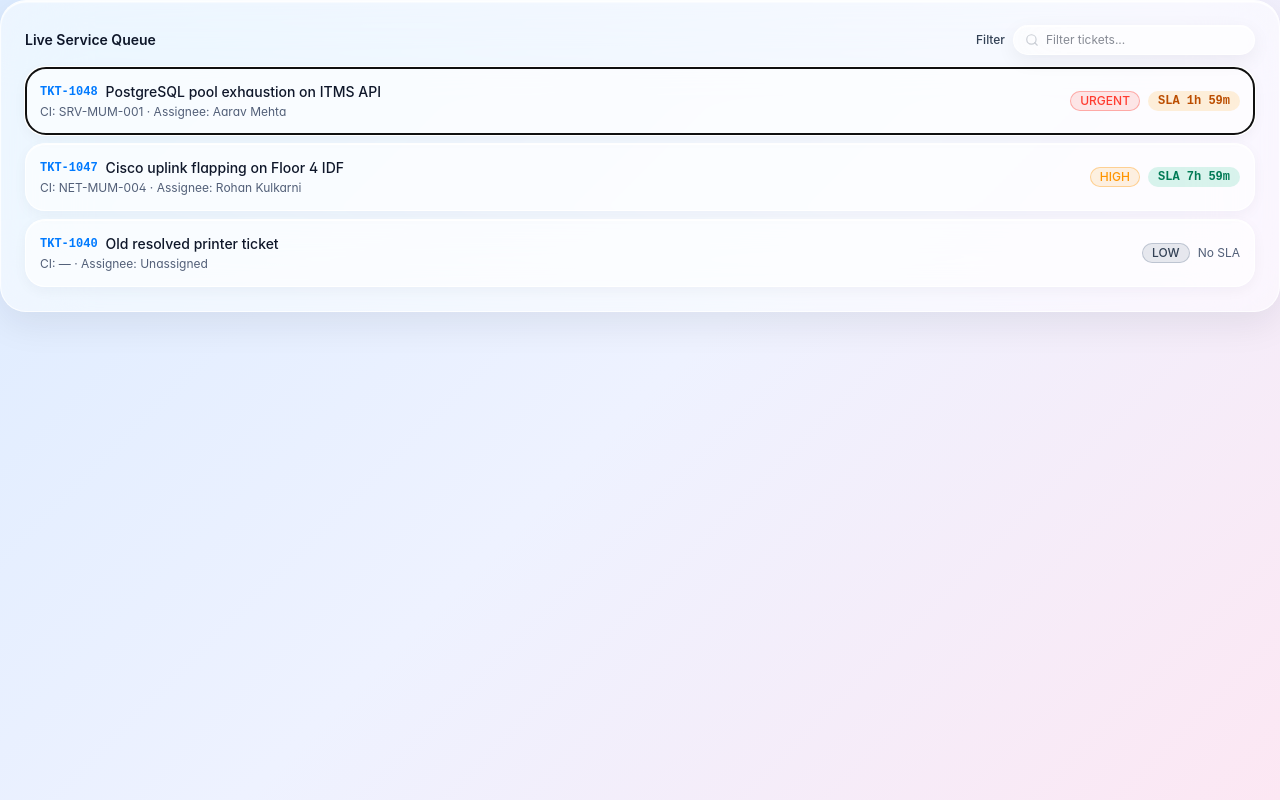
ServiceQueue FE-03 inspect drawer focus management (#147) › drawer is modal with initial focus, traps Tab, and returns focus to the invoking row
Check: the text "TKT-1048" is shown, box [40,84,98,100]
Click the button "TKT-1048".
click(69, 92)  # box [25,67,1255,135]
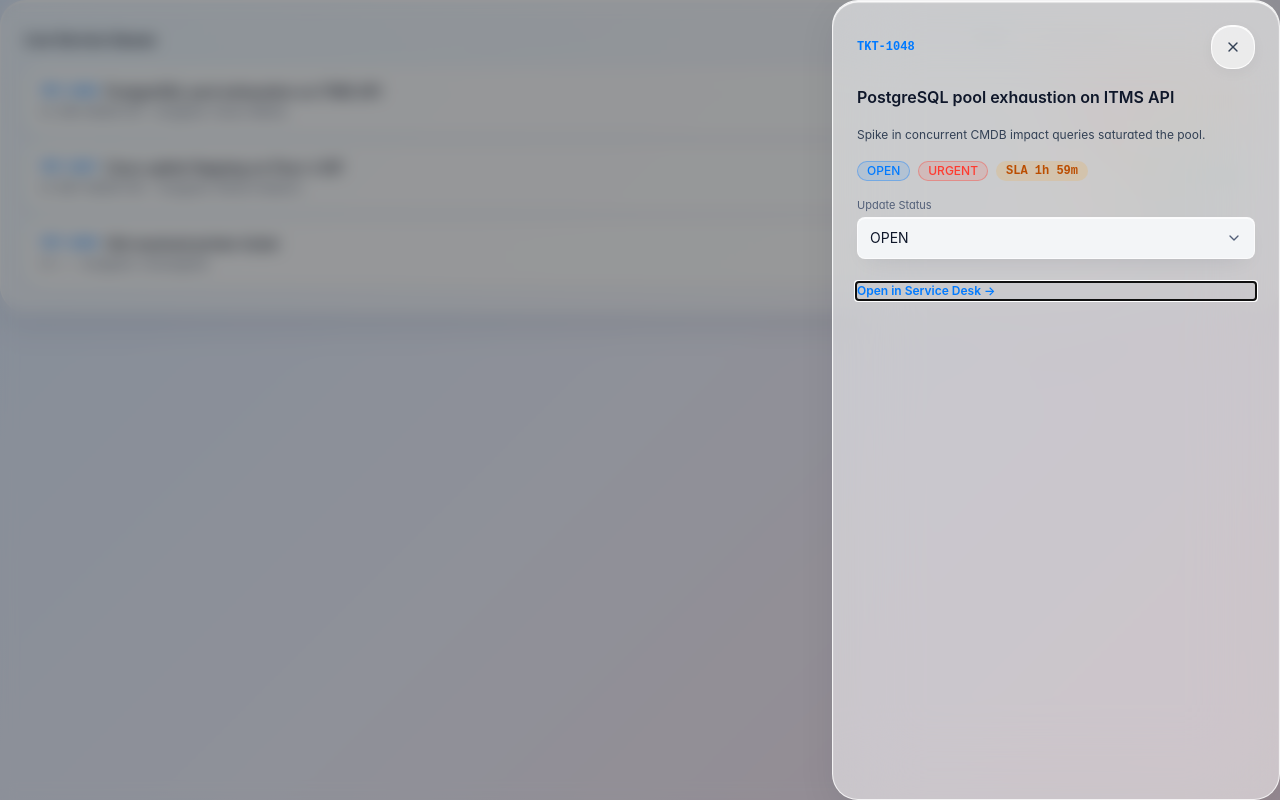
Press Tab in the link "Open in Service Desk →", box [857,283,996,298]
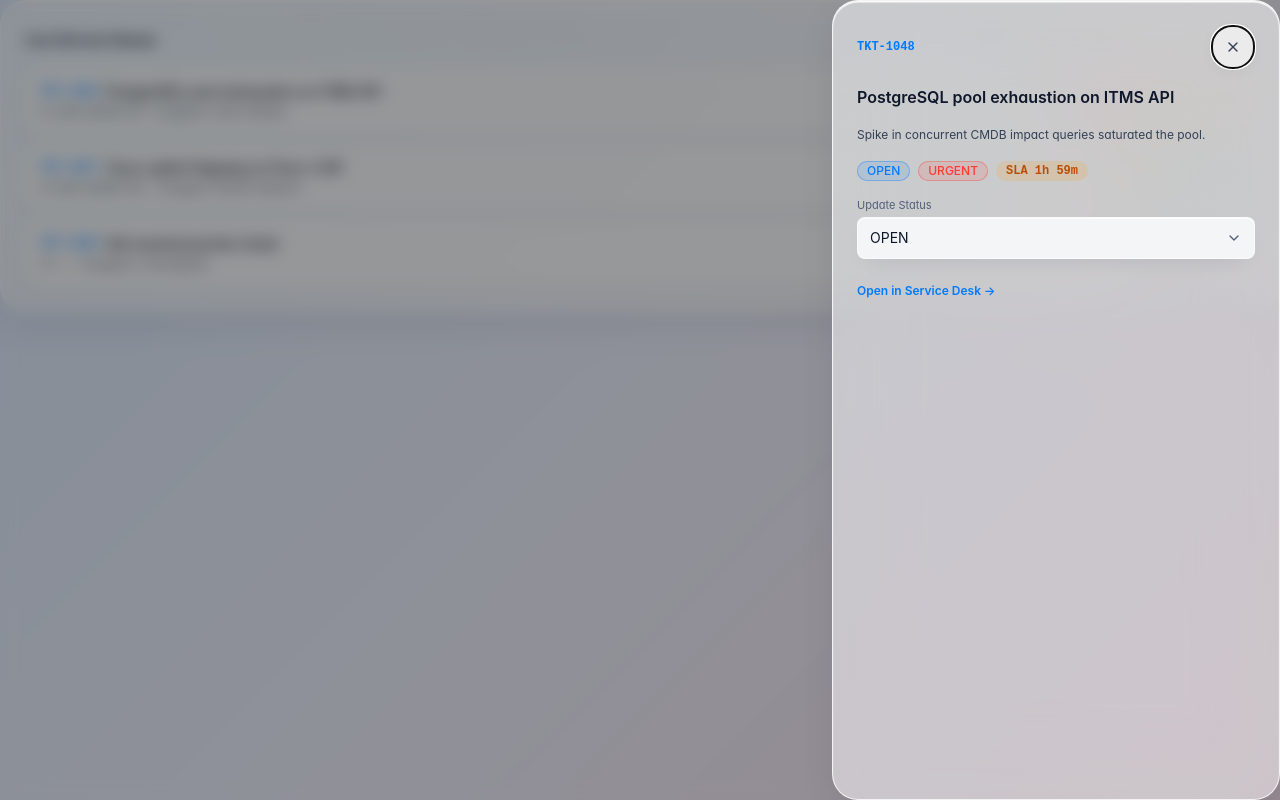
Press Tab in the button named "Close ticket details", box [1211,25,1255,69]
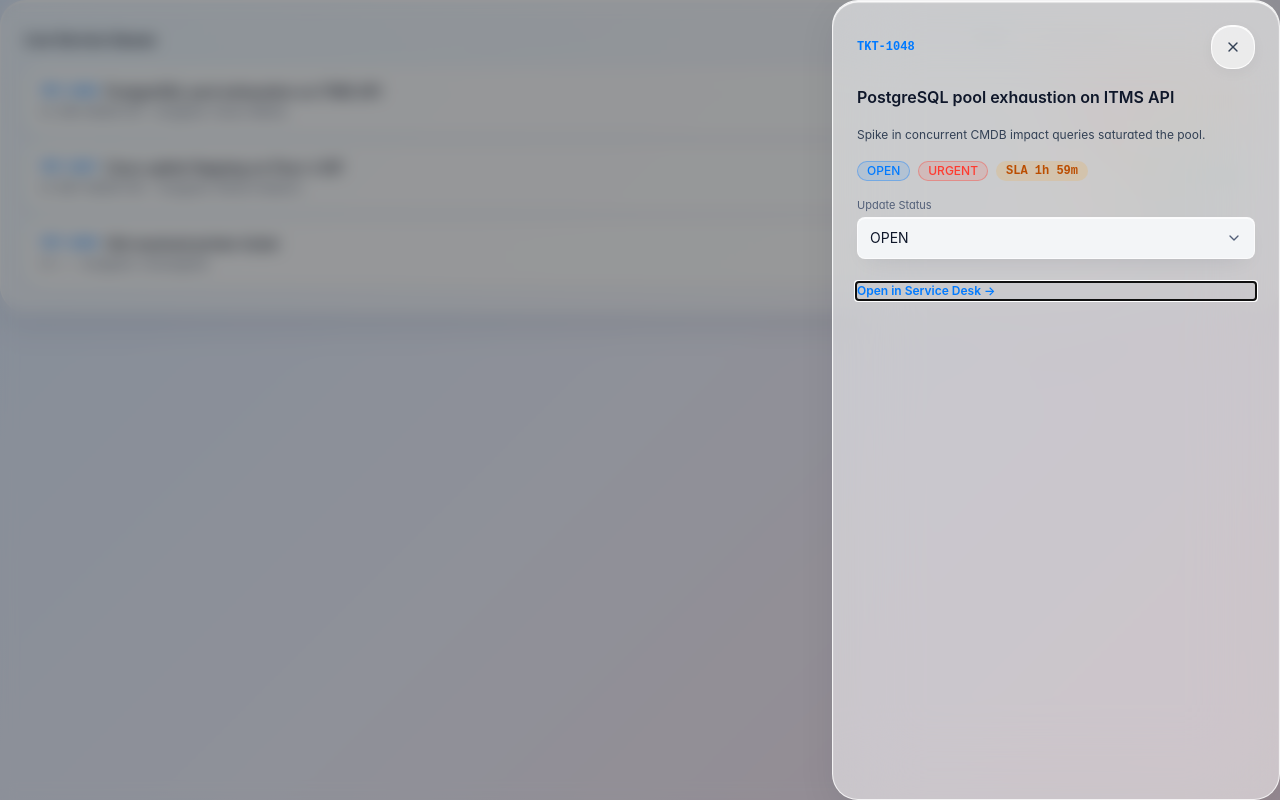
Press Escape
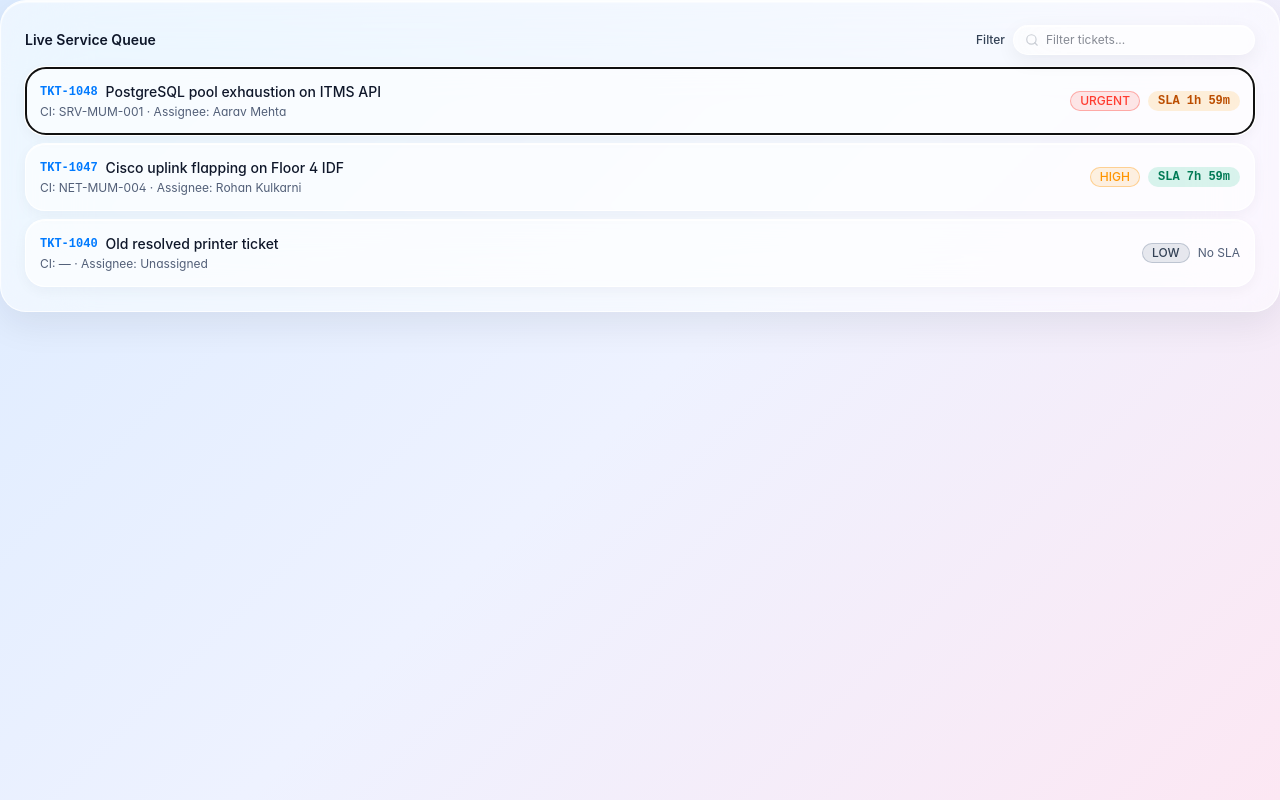
Check: the dialog with test id "service-queue-drawer" is gone
